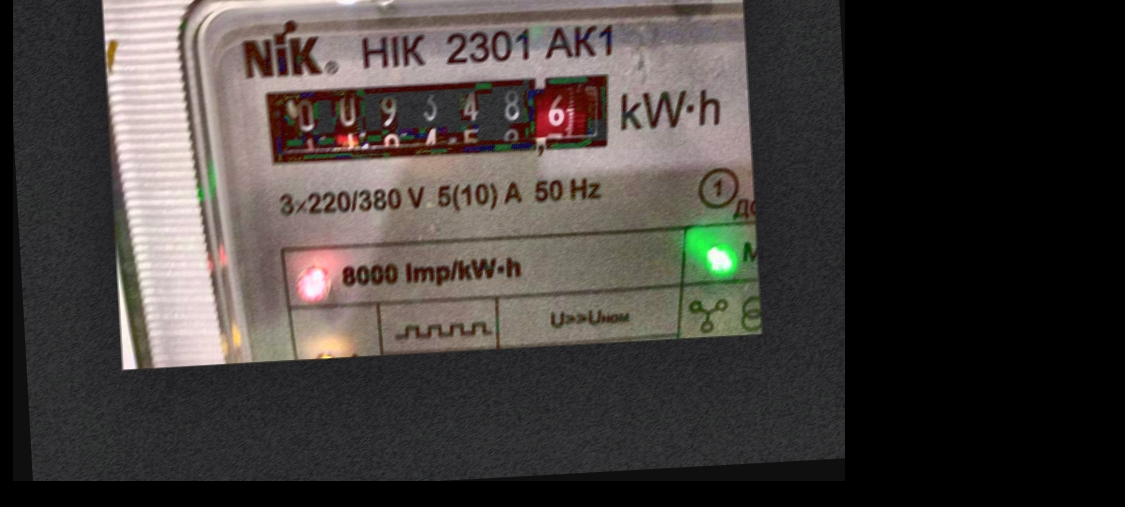0: (336, 93, 359, 130), (295, 97, 317, 133)
3: (418, 89, 442, 122)
4: (458, 87, 481, 125)
6: (545, 92, 569, 127)
8: (501, 86, 523, 121)
9: (379, 91, 399, 126)
screen: (242, 57, 632, 181)
